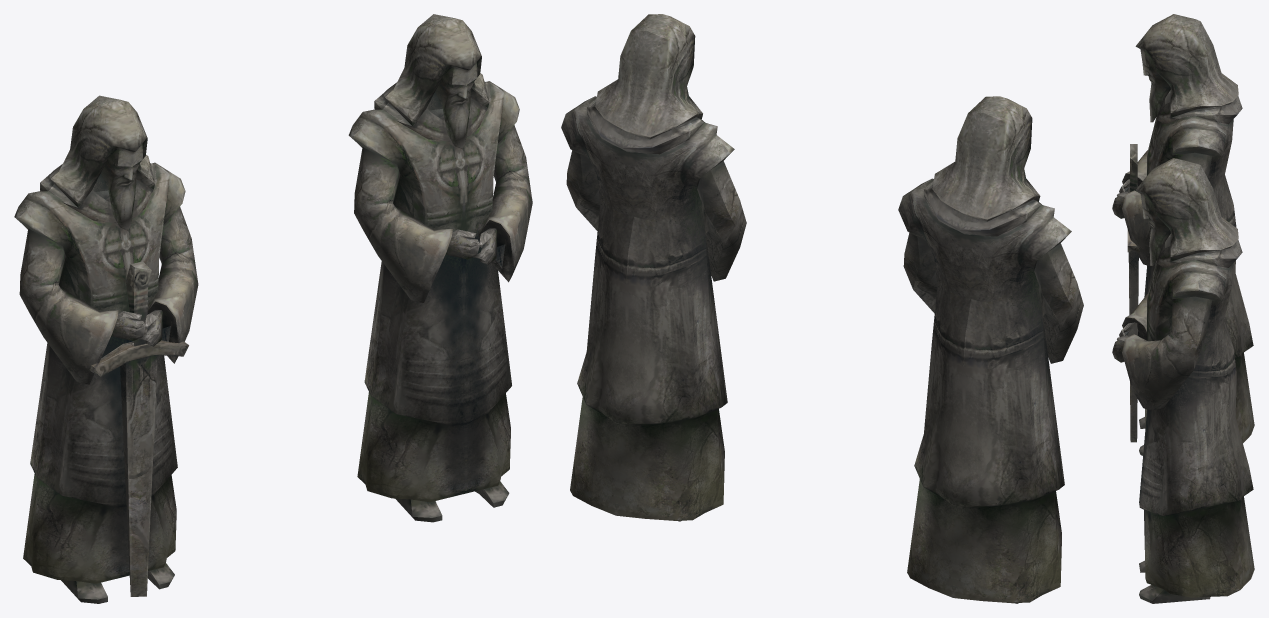
Rendered from d_deco_statue01.FBX.
3 views of the same model, side by side, from view 1: azimuth 30°, elevation 25°; view 2: azimuth 150°, elevation 25°; view 3: azimuth 270°, elevation 25° (orthographic). The views are drawn at different scales.
Visible parts, largest first — view 1: deco_statue01, deco_statue02; view 2: deco_statue01, deco_statue02; view 3: deco_statue02, deco_statue01.
Boxes of the visible parts, x1,y1,x2,y2 form: deco_statue01: (14, 95, 198, 603); deco_statue02: (348, 14, 532, 522); deco_statue01: (898, 96, 1083, 603); deco_statue02: (561, 14, 746, 521); deco_statue02: (1112, 158, 1254, 603); deco_statue01: (1112, 14, 1254, 455).
Bounding box in the file's own units: 582 × 533 × 162.
